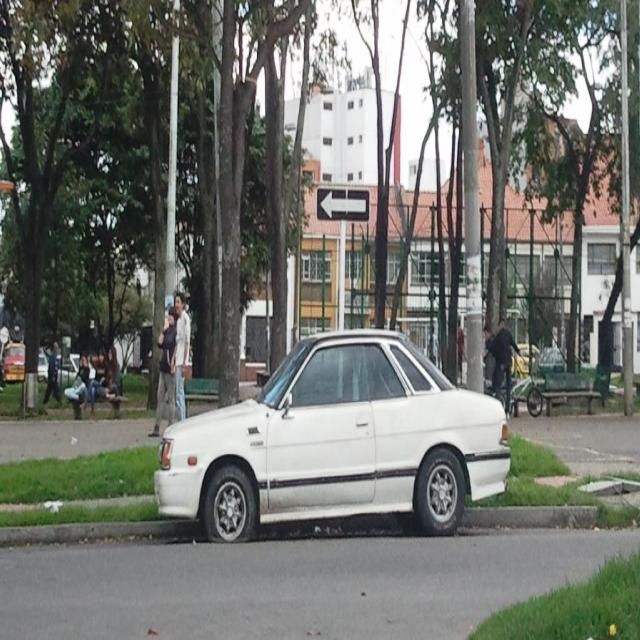Passenger Car: (154, 332, 510, 551)
